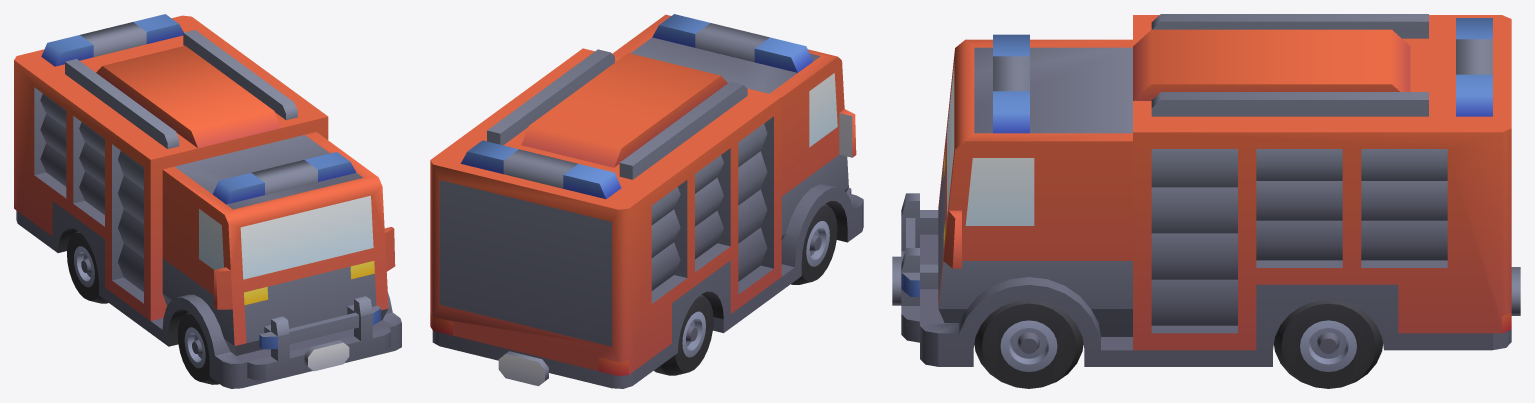
Rendered from firetruck.glb.
3 renders of one model, left to right at view 1: azimuth 30°, elevation 25°; view 2: azimuth 150°, elevation 25°; view 3: azimuth 270°, elevation 25°, orthographic. The views are drawn at different scales.
Parts seen in each view (by area): view 1: body, grill, wheel-front-right, wheel-back-right; view 2: body, wheel-back-right, wheel-front-right; view 3: body, wheel-front-left, wheel-back-left, grill.
Part boxes in pixels (x1,y1,x2,y2): body: (14, 14, 401, 388); grill: (247, 296, 390, 380); wheel-front-right: (177, 312, 219, 384); wheel-back-right: (67, 230, 108, 303); body: (430, 14, 863, 388); wheel-back-right: (654, 294, 713, 375); wheel-front-right: (791, 203, 837, 284); body: (920, 14, 1520, 366); wheel-front-left: (974, 300, 1083, 388); wheel-back-left: (1274, 300, 1382, 388); grill: (892, 193, 938, 342).
Size of the model in its own units: 1.5 by 1.7 by 3.4.
Materials: 1 (1 with a texture image).
